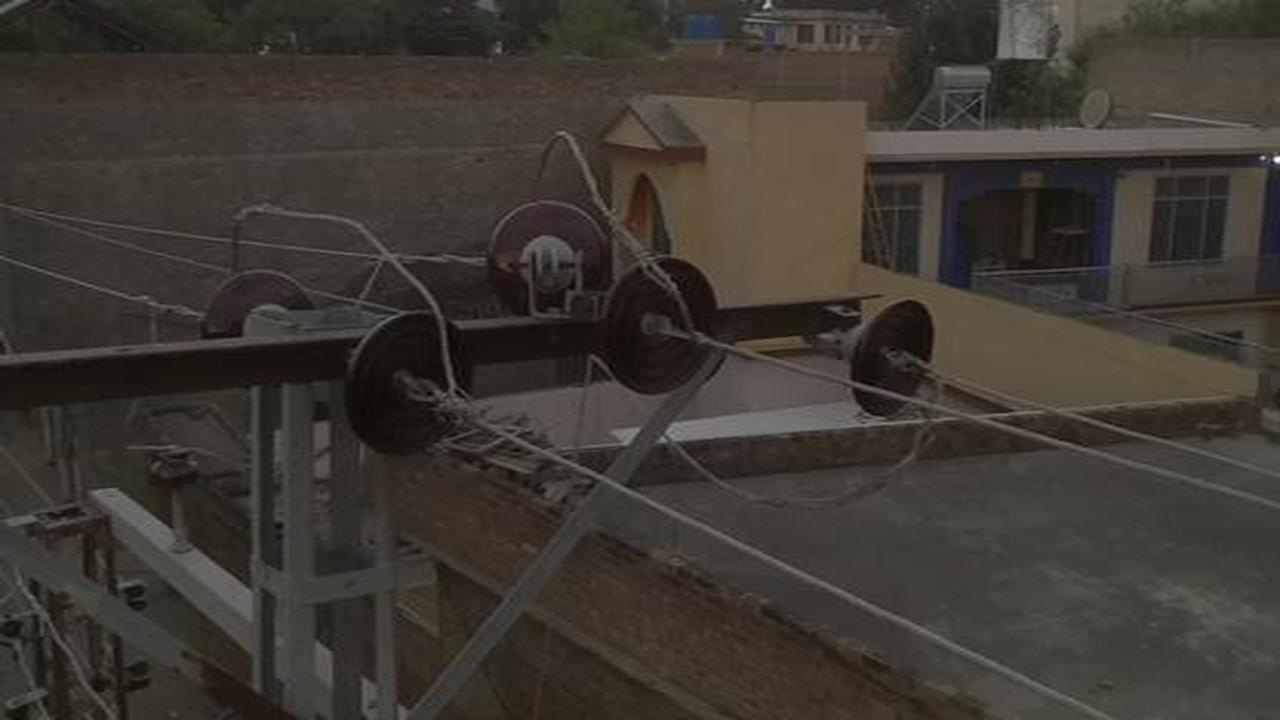insulator_disc: (343, 305, 479, 465), (595, 258, 722, 398), (482, 198, 605, 314), (839, 290, 941, 418)
